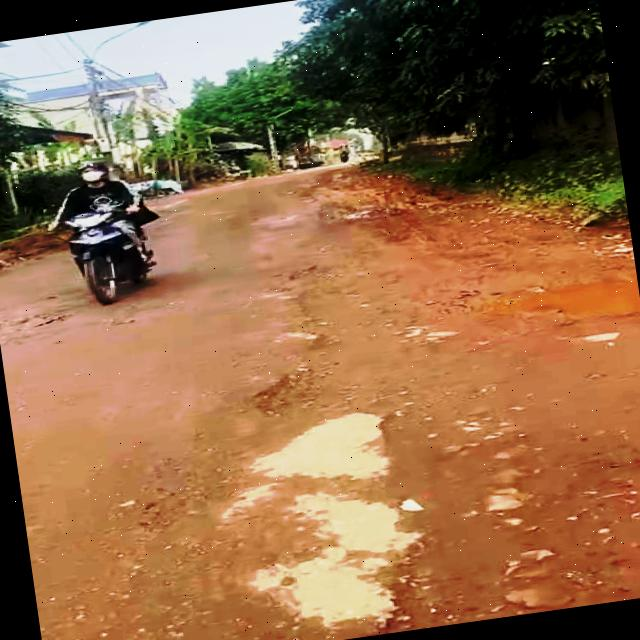pothole: (313, 557, 608, 640), (477, 265, 640, 340), (246, 360, 380, 428)
